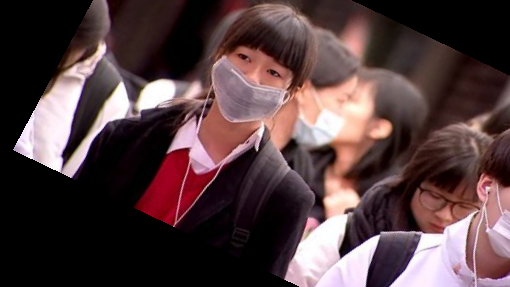mask_weared_incorrect: (208, 3, 323, 130)
